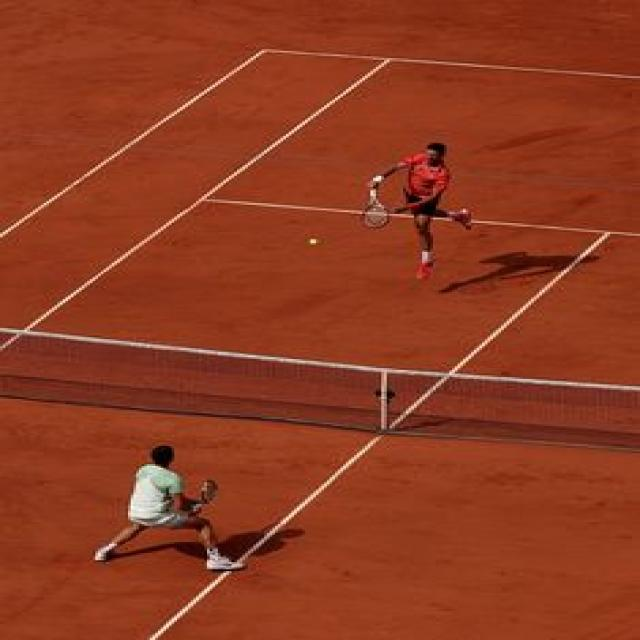tennis: (302, 233, 330, 251)
